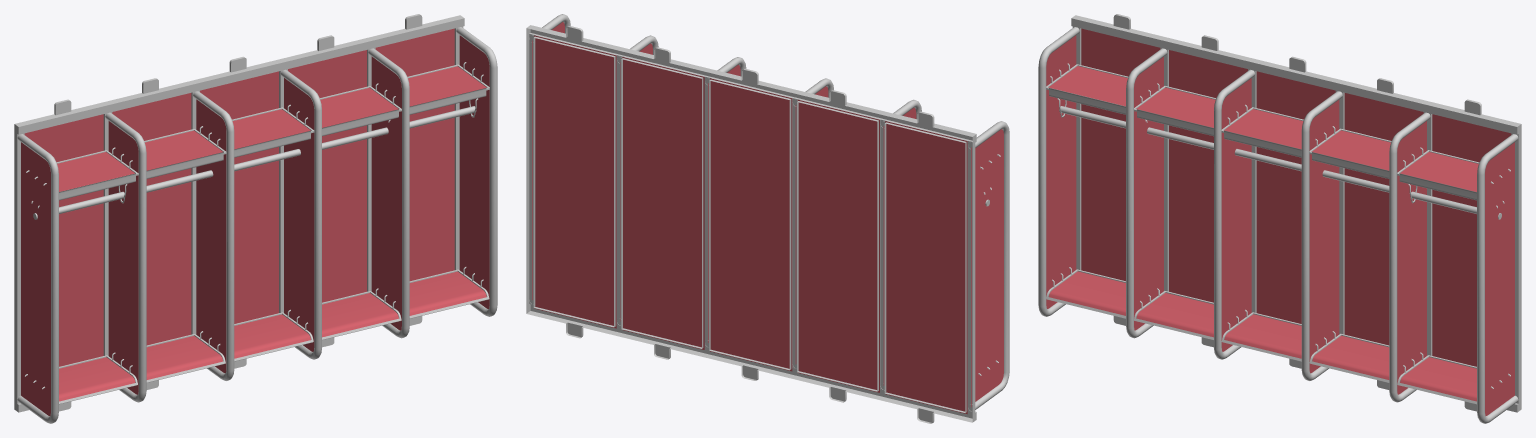
The model's file is Equipment_Rack.fbx.
3 renders of one model, left to right at view 1: azimuth 30°, elevation 25°; view 2: azimuth 150°, elevation 25°; view 3: azimuth 330°, elevation 25°, orthographic.
Parts seen in each view (by area): view 1: Plane.002; view 2: Plane.002; view 3: Plane.002.
Part boxes in pixels (x1,y1,x2,y2): Plane.002: (14, 14, 497, 423); Plane.002: (526, 14, 1009, 423); Plane.002: (1038, 14, 1521, 423).
Size of the model in its own units: 327 by 216 by 49.19.
